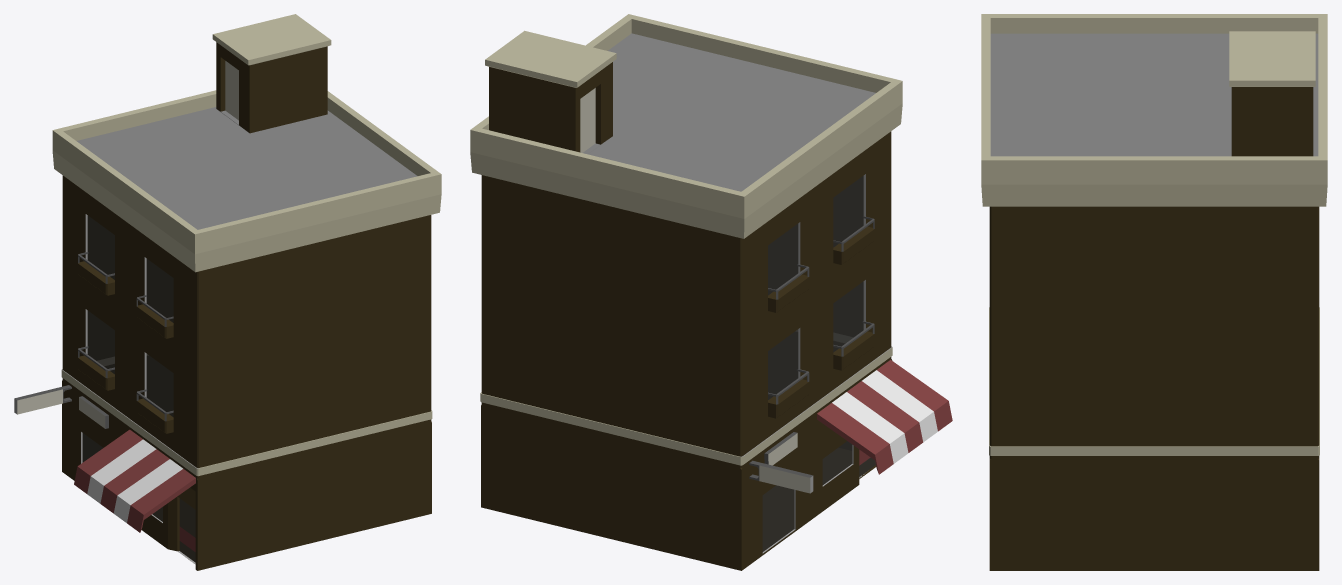
File: Proto-PharmCafe.fbx
3 renders of one model, left to right at view 1: azimuth 30°, elevation 25°; view 2: azimuth 150°, elevation 25°; view 3: azimuth 270°, elevation 25°, orthographic. The views are drawn at different scales.
Parts seen in each view (by area): view 1: PharmCafe; view 2: PharmCafe; view 3: PharmCafe.
Boxes of the visible parts, box(x1,y1,x2,y2) form: PharmCafe: box(14, 14, 441, 570); PharmCafe: box(470, 14, 952, 570); PharmCafe: box(981, 14, 1327, 570).
Size of the model in its own units: 7.77 by 10.08 by 6.47.
